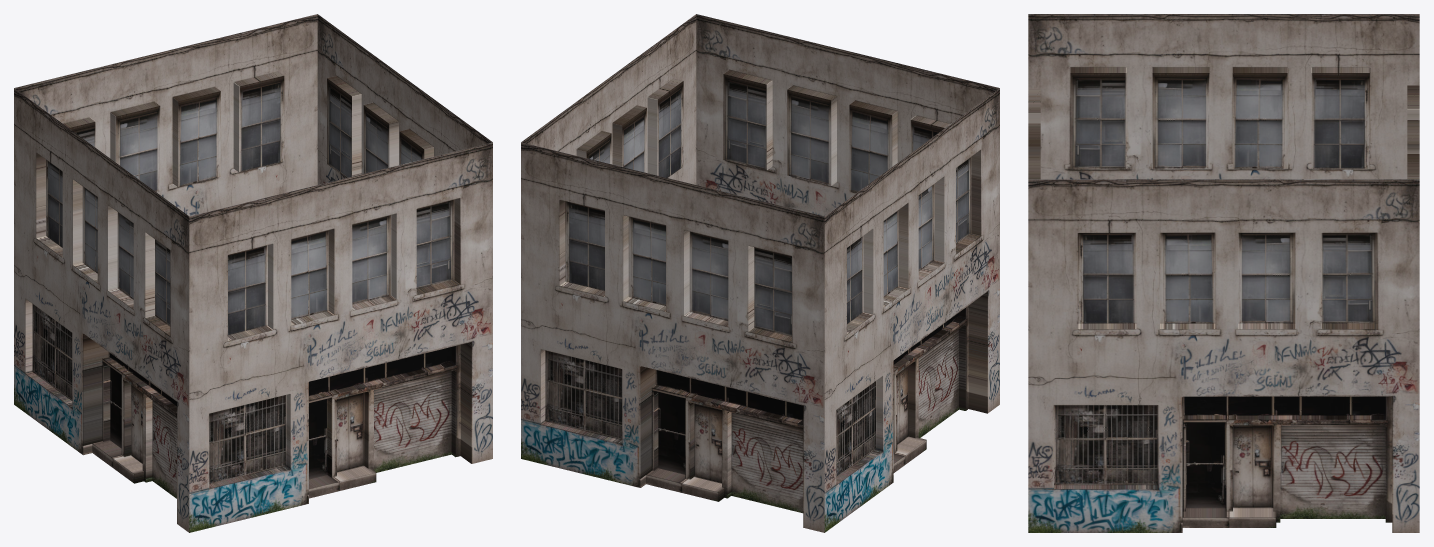
The model's file is Building破烂小屋2.glb.
The picture shows the model from 3 angles, left to right: view 1: azimuth 30°, elevation 25°; view 2: azimuth 150°, elevation 25°; view 3: azimuth 270°, elevation 25°; orthographic projection. The views are drawn at different scales.
Visible parts, largest first — view 1: building.001, building.002, building.003, building; view 2: building.003, building.002, building.001, building; view 3: building, building.002, building.003, building.001.
Part boxes in pixels (left/top/right/bottom): building.001: left=189, top=142, right=492, bottom=532; building.002: left=14, top=88, right=189, bottom=532; building.003: left=14, top=14, right=317, bottom=216; building: left=317, top=14, right=492, bottom=184; building.003: left=521, top=142, right=824, bottom=532; building.002: left=824, top=88, right=999, bottom=532; building.001: left=696, top=14, right=999, bottom=216; building: left=521, top=14, right=696, bottom=184; building: left=1028, top=179, right=1419, bottom=532; building.002: left=1028, top=14, right=1419, bottom=179; building.003: left=1407, top=85, right=1419, bottom=179; building.001: left=1028, top=88, right=1040, bottom=179.
Bounding box in the file's own units: 9.04 × 9.01 × 9.04.
Materials: 2 (2 with a texture image).
